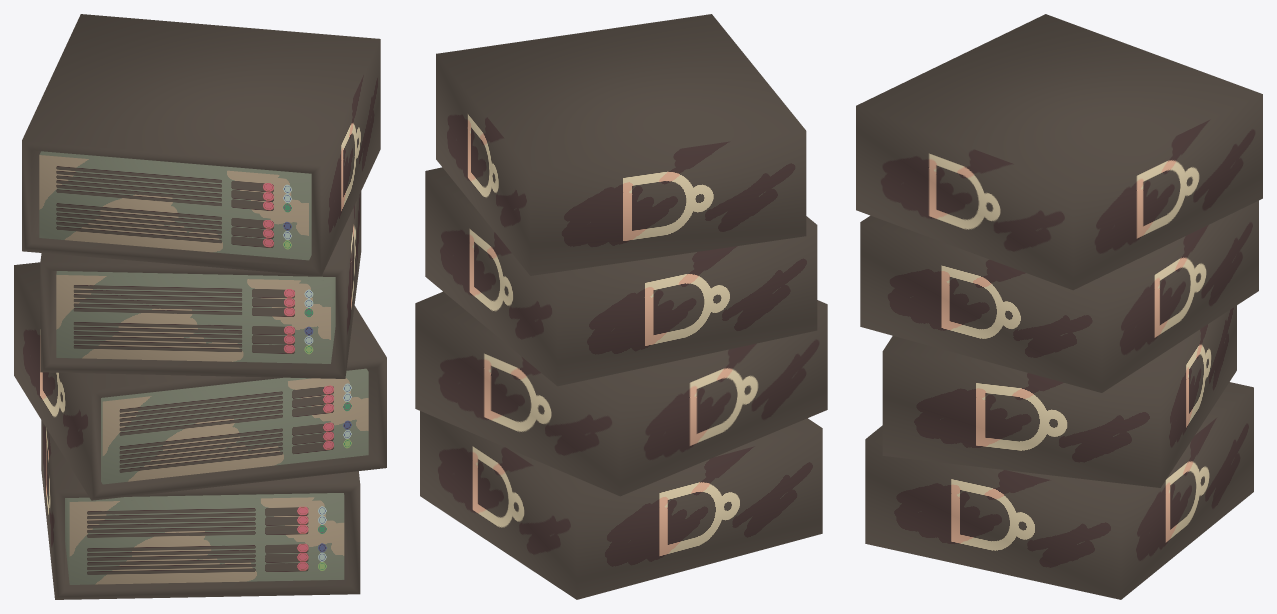
Rendered from nand_gate.glb.
3 views of the same model, side by side, from view 1: azimuth 30°, elevation 25°; view 2: azimuth 150°, elevation 25°; view 3: azimuth 270°, elevation 25° (orthographic). The views are drawn at different scales.
Visible parts, largest first — view 1: logic_gate; view 2: logic_gate; view 3: logic_gate.
Boxes of the visible parts, <box> form: logic_gate: <box>14,14,386,599</box>; logic_gate: <box>415,14,827,599</box>; logic_gate: <box>856,14,1262,599</box>.
Bounding box in the file's own units: 1.41 × 1.6 × 1.41.
Materials: 1 (1 with a texture image).
